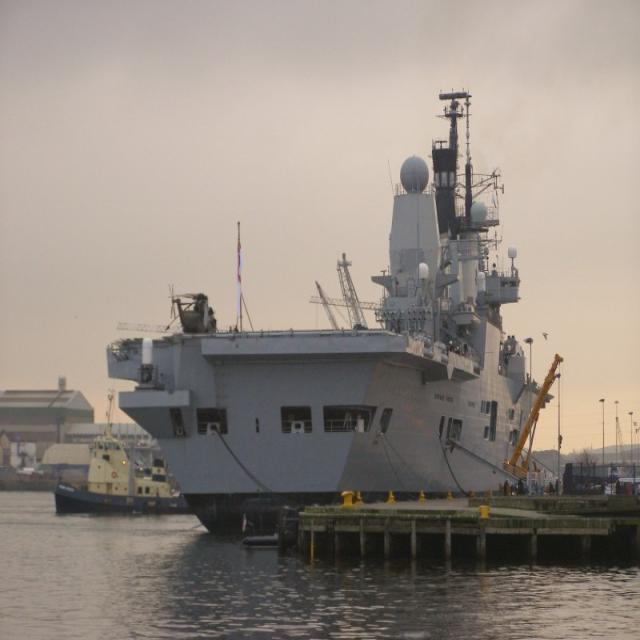Portanaves: (107, 60, 548, 564)
